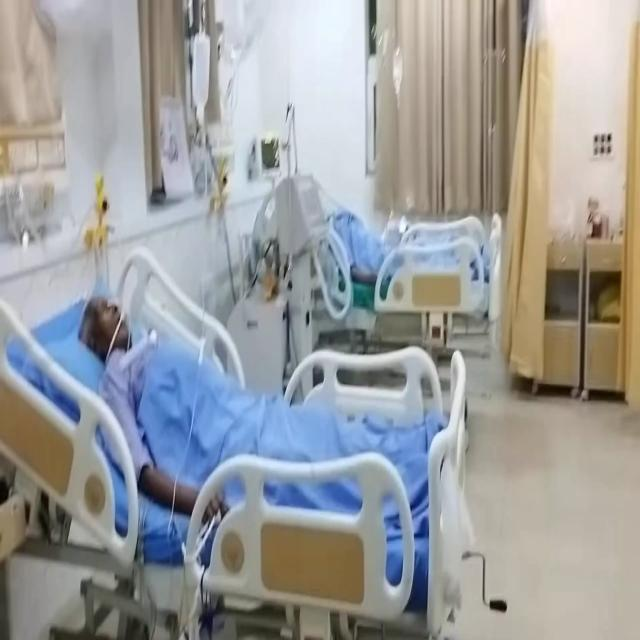Movement-NO: (70, 275, 246, 459)
